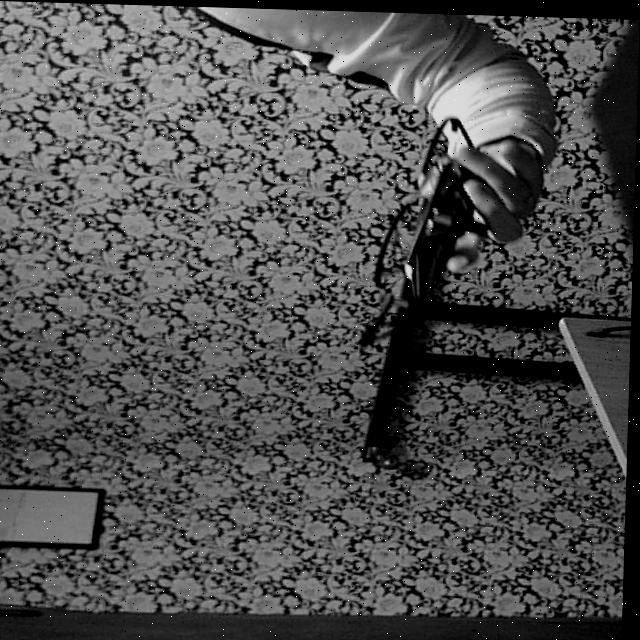drone: (337, 90, 509, 358)
